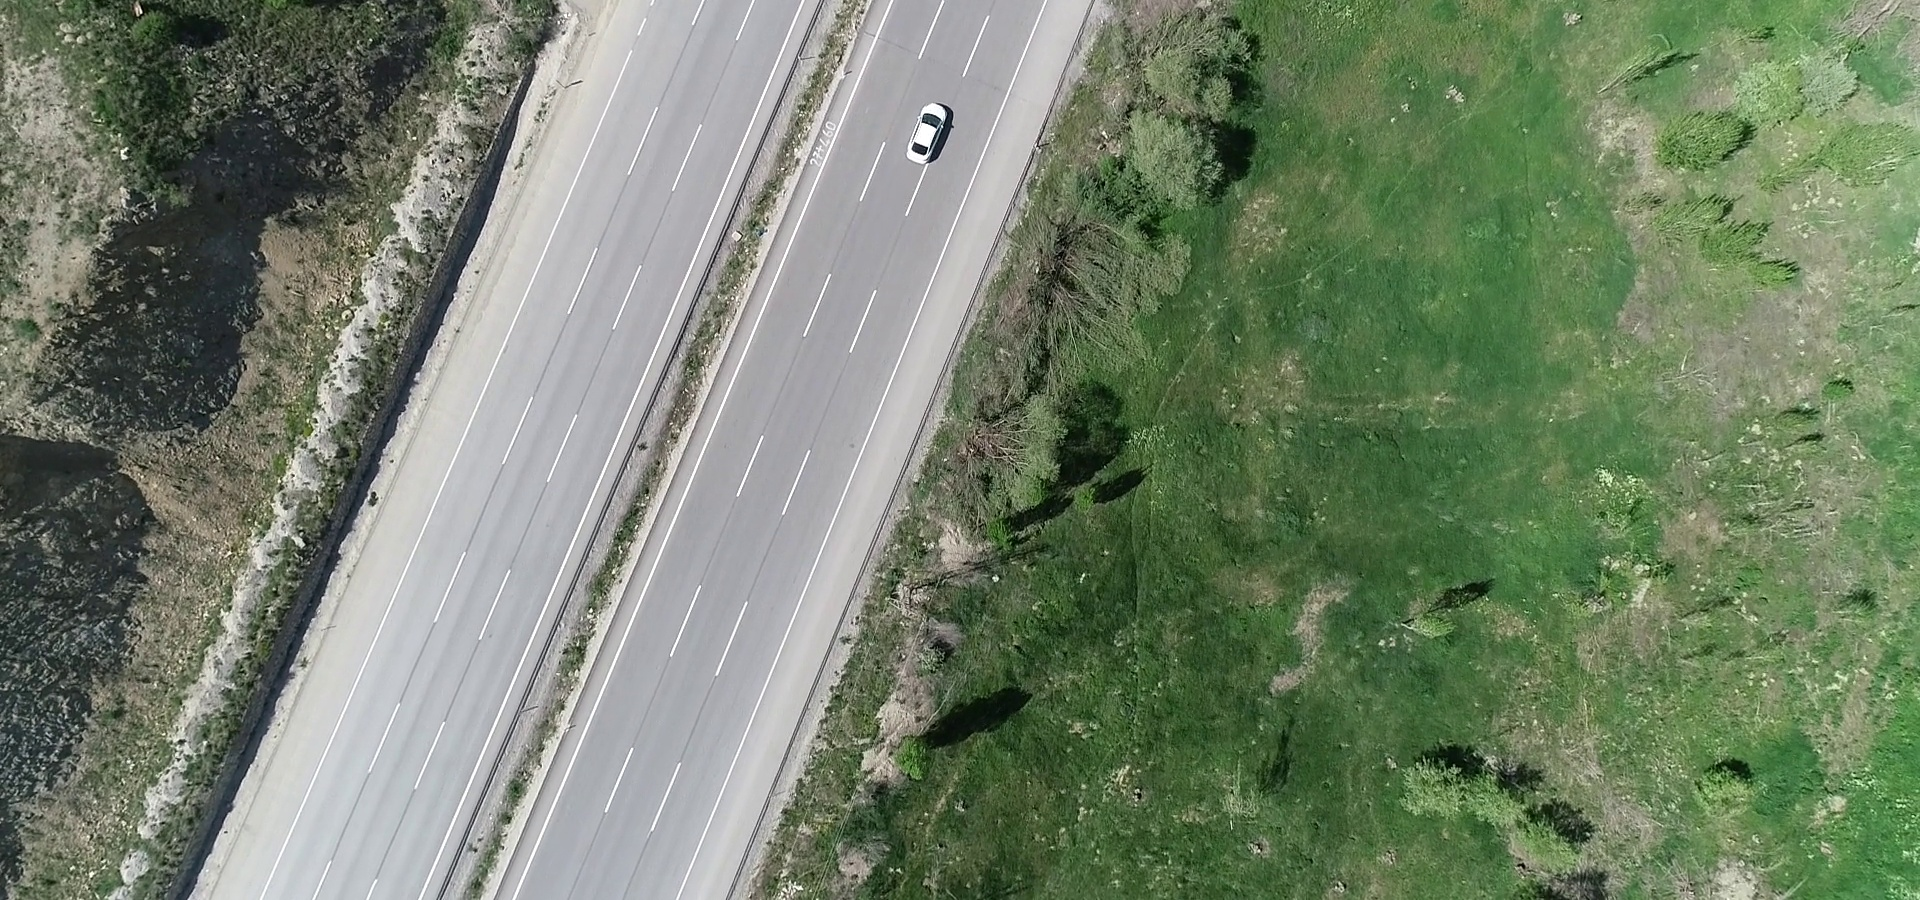arac: (902, 99, 958, 169)
